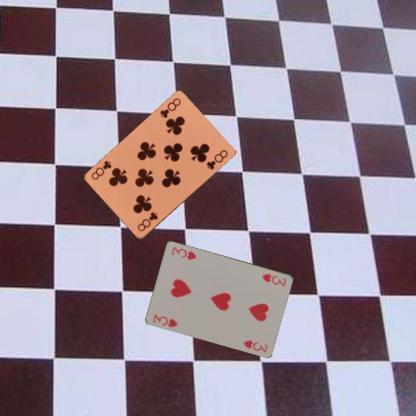3h: (259, 271, 288, 288), (150, 312, 179, 328)
8c: (157, 96, 182, 120), (134, 210, 160, 233)
